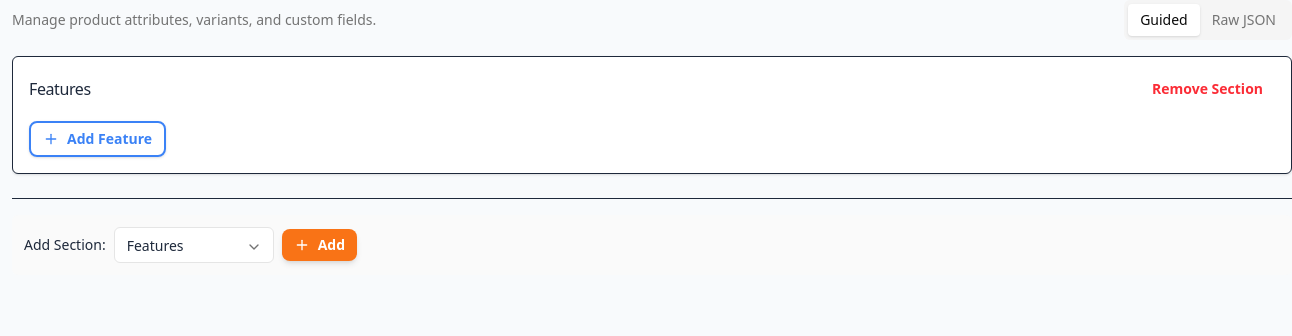
Test case: adds a new feature row
The width and height of the screenshot is (1292, 336).
Click the button "Add Feature": (98, 139) [29,121,166,157]
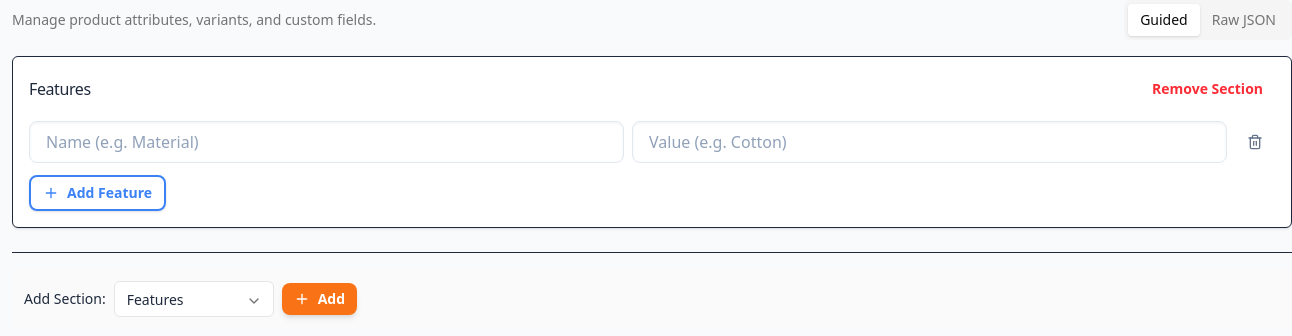
Result: the number of fields with placeholder "Name (e.g. Material)" is 1 at [29,121,624,163]
Result: the number of fields with placeholder "Value (e.g. Cotton)" is 1 at [632,121,1227,163]
